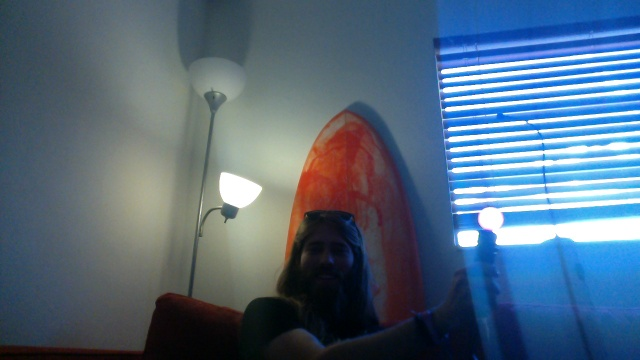wand: (478, 207, 504, 229)
